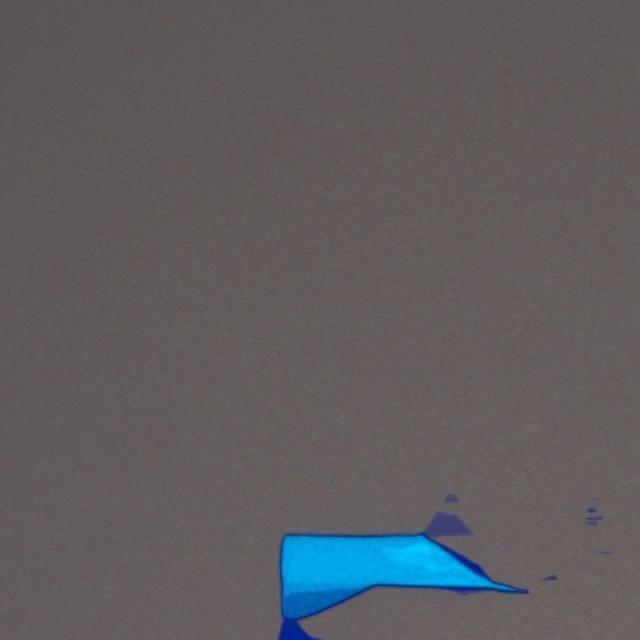monolayer-eWW4: (424, 508, 476, 540)
